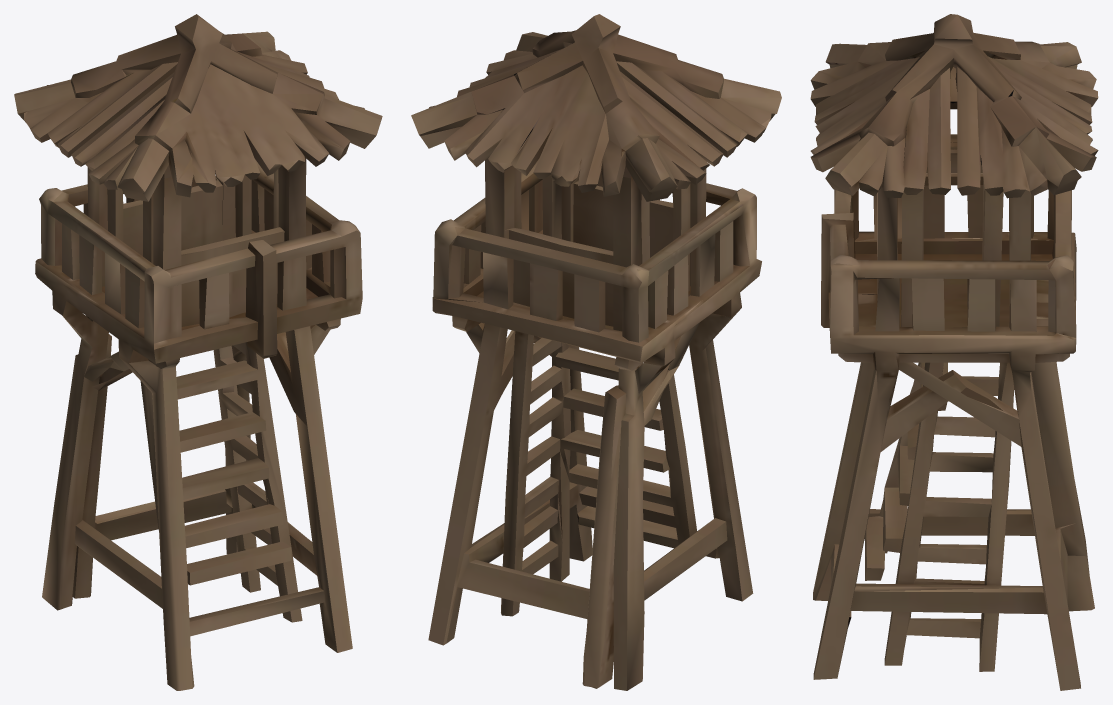
Rendered from 箭塔瞭望台.glb.
The picture shows the model from 3 angles, left to right: view 1: azimuth 30°, elevation 25°; view 2: azimuth 150°, elevation 25°; view 3: azimuth 270°, elevation 25°; orthographic projection. The views are drawn at different scales.
Parts seen in each view (by area): view 1: geometry_0; view 2: geometry_0; view 3: geometry_0.
Boxes of the visible parts, x1,y1,x2,y2 form: geometry_0: (14,14,382,690); geometry_0: (411,14,781,690); geometry_0: (810,14,1098,690).
Bounding box in the file's own units: 0.4729 × 1 × 0.4195.
1 material, 1 textured.
